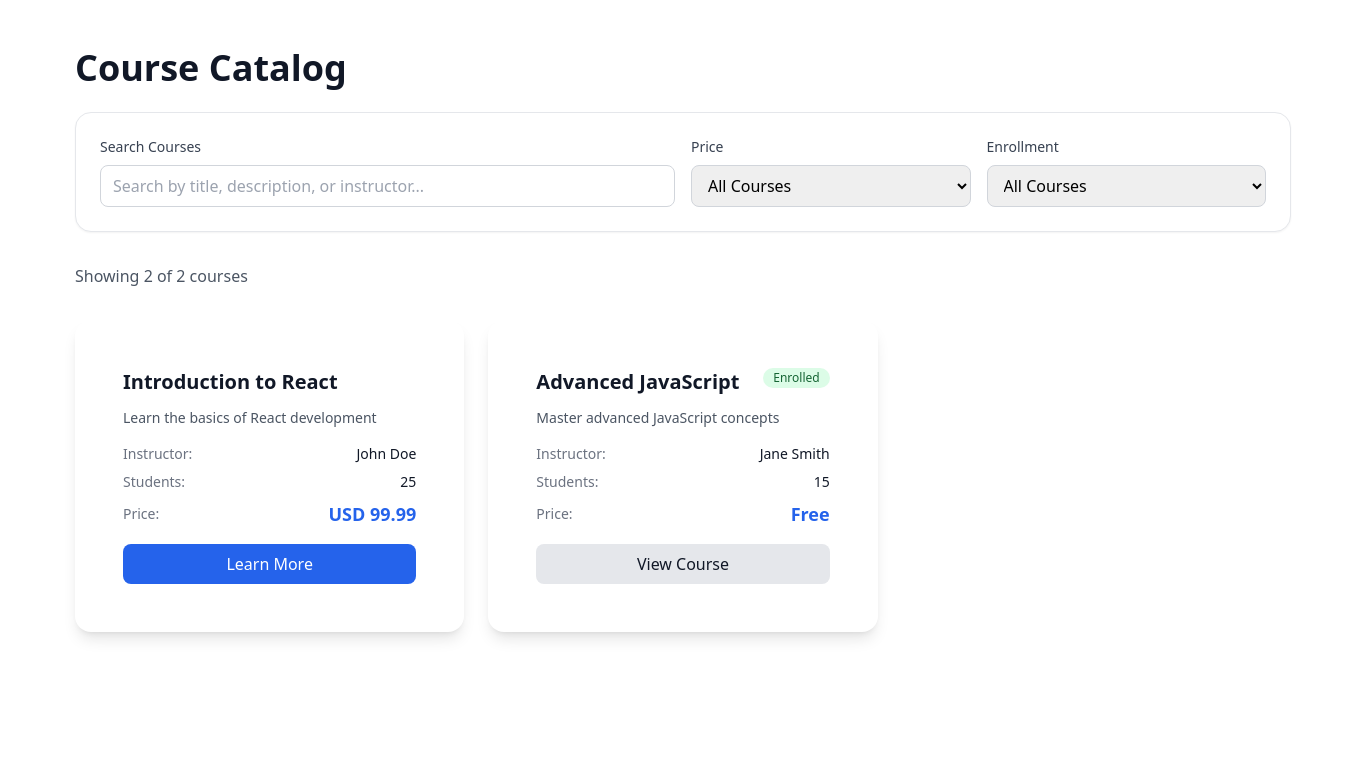
CourseCatalog Component › implements course filtering and search
Check: the heading "Introduction to React" is shown, box [123,368,338,396]
Test search functionality
Type "React" into the field with placeholder "Search by title, description, or instructor...".
click(388, 186); type("React")  # box [100,165,675,207]
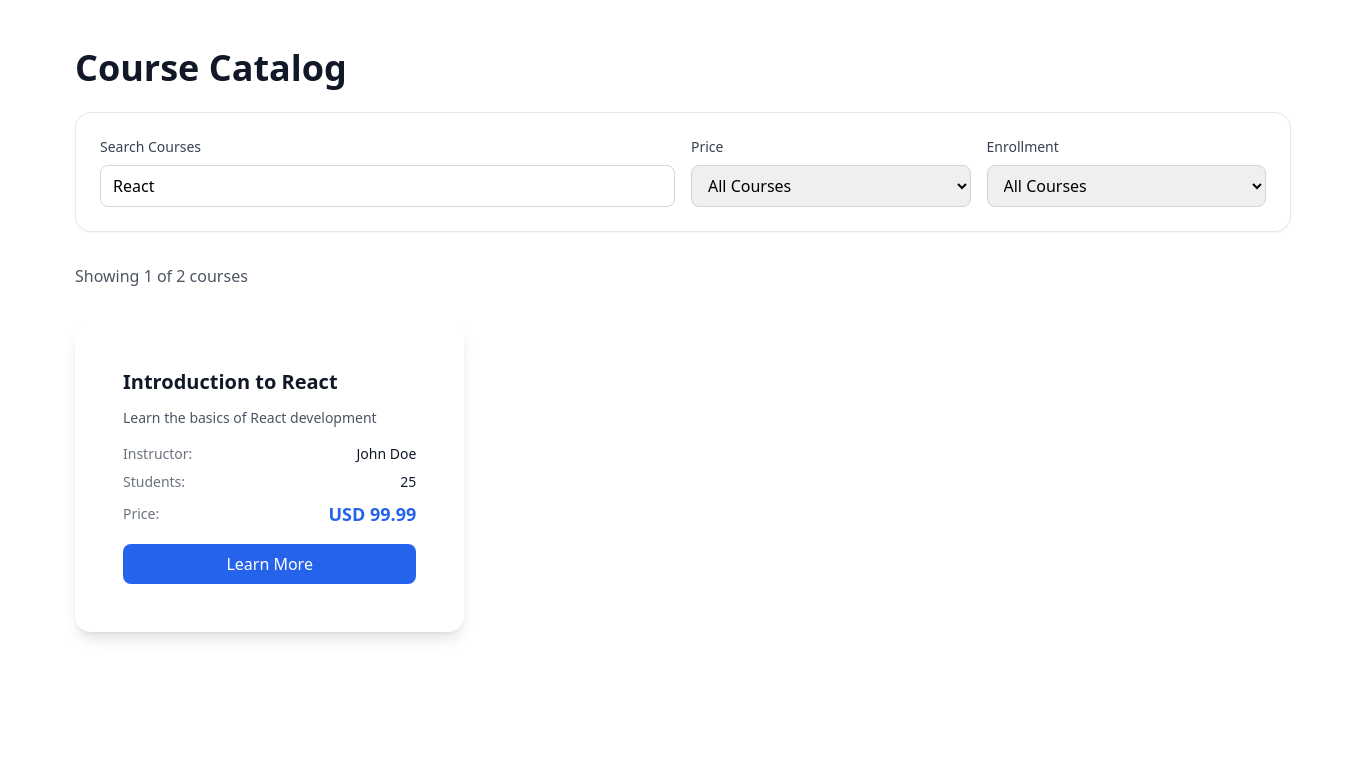
Check: the heading "Introduction to React" is shown, box [123,368,338,396]
Check: the heading "Advanced JavaScript" is gone
Test price filter
Select "Free Courses" in the dropdown labelled "Price" at (831, 186), box [691,165,970,207]
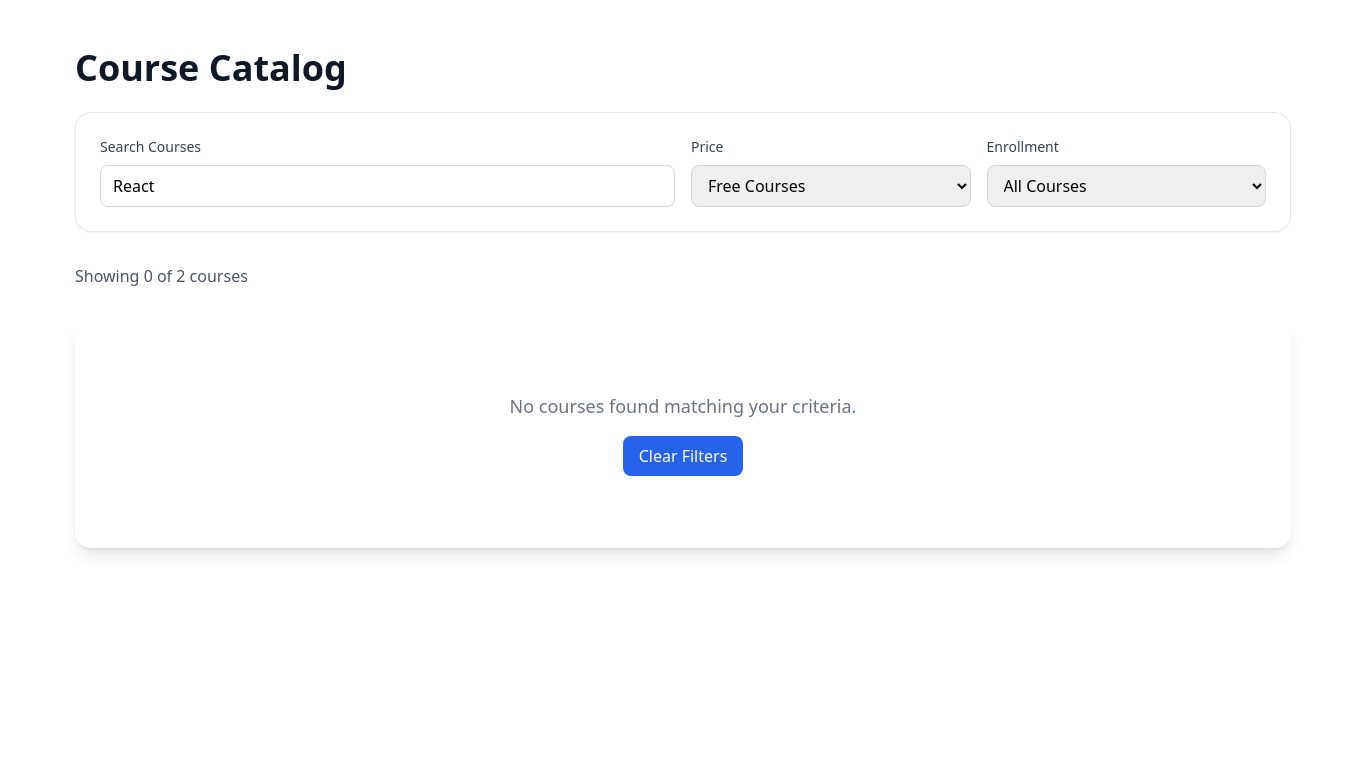
Check: the heading "Introduction to React" is gone
